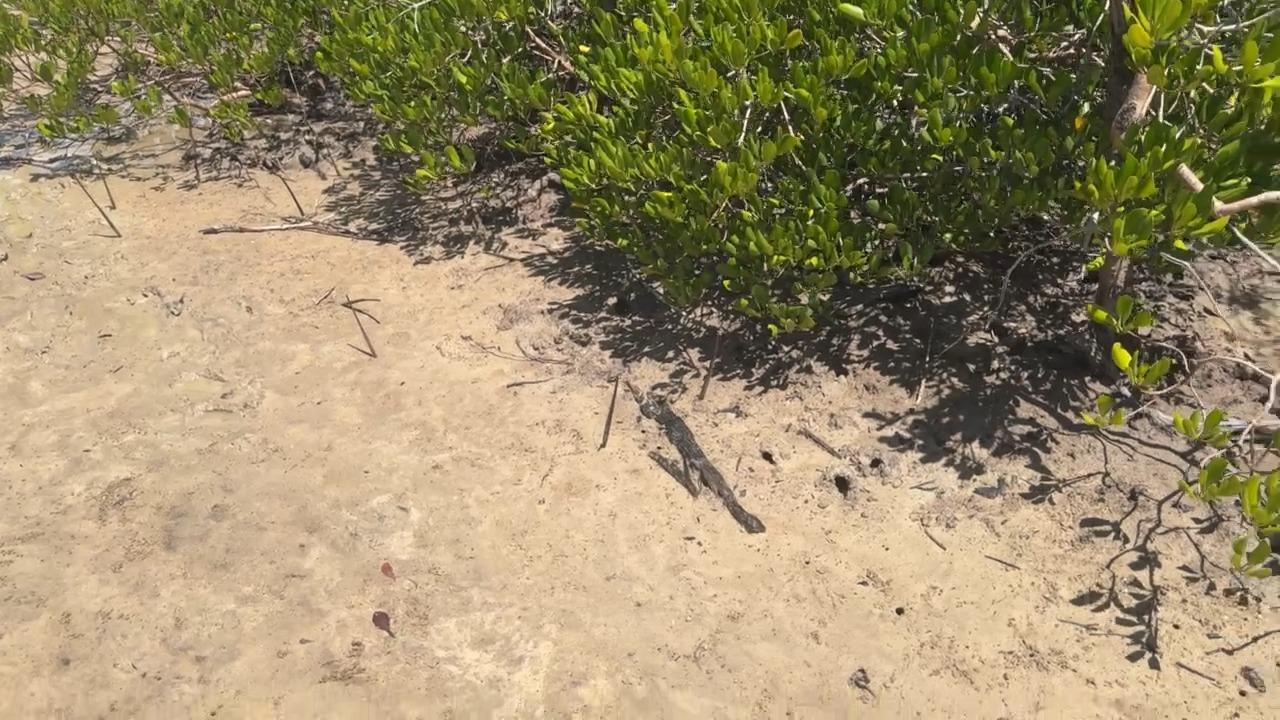Tree: (73, 172, 123, 238), (344, 291, 379, 359), (698, 333, 725, 401), (273, 170, 306, 217), (601, 374, 620, 448), (96, 171, 118, 210), (323, 138, 342, 178)
